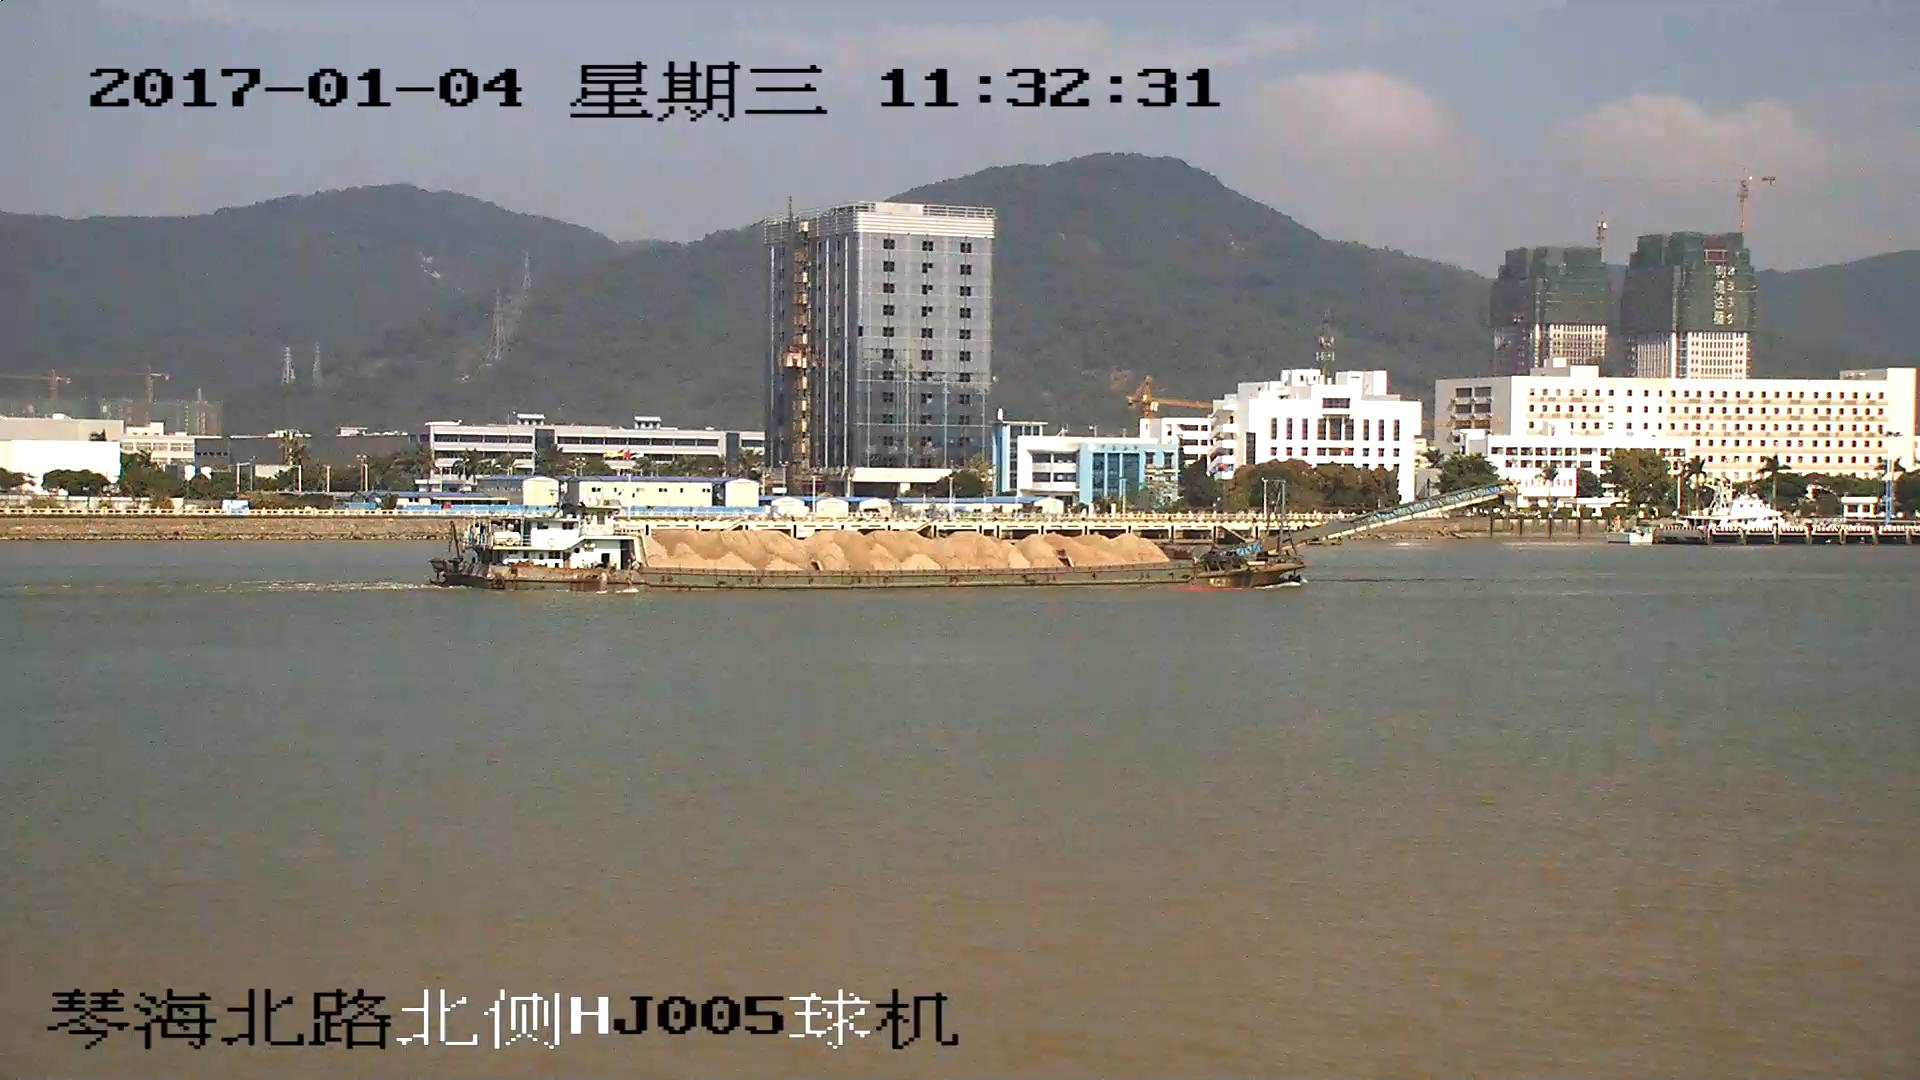ore carrier: (432, 481, 1512, 597)
